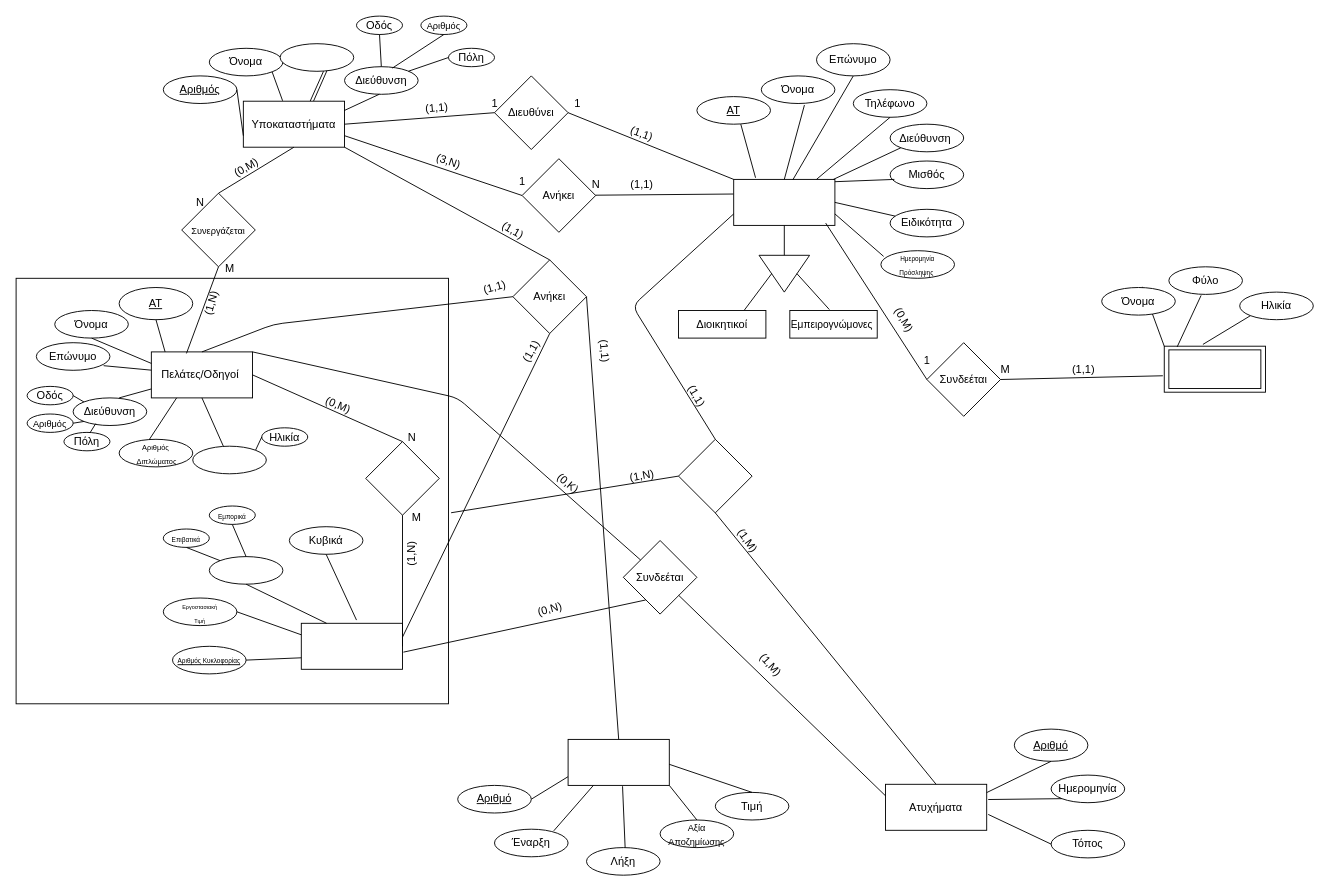
Image size: 1329x891. Some labels were removed from this diagram. The centre of each missing label's shape, as x and y in pixels:
"is_a" goes at (784,273).
"Ασφαλιστήριο" goes at (618,761).
"Αυτοκίνητα" goes at (351,645).
"Είδος" goes at (245,570).
"Ημερομηνία Γέννησης" goes at (229,459).
"Οδηγεί" goes at (402,478).
"Προστατευόμενα Μέλη" goes at (1214,369).
"Τηλέφωνα" goes at (316,57).
"Υπάλληλοι" goes at (784,201).
"Υπεύθυνος" goes at (715,475).
